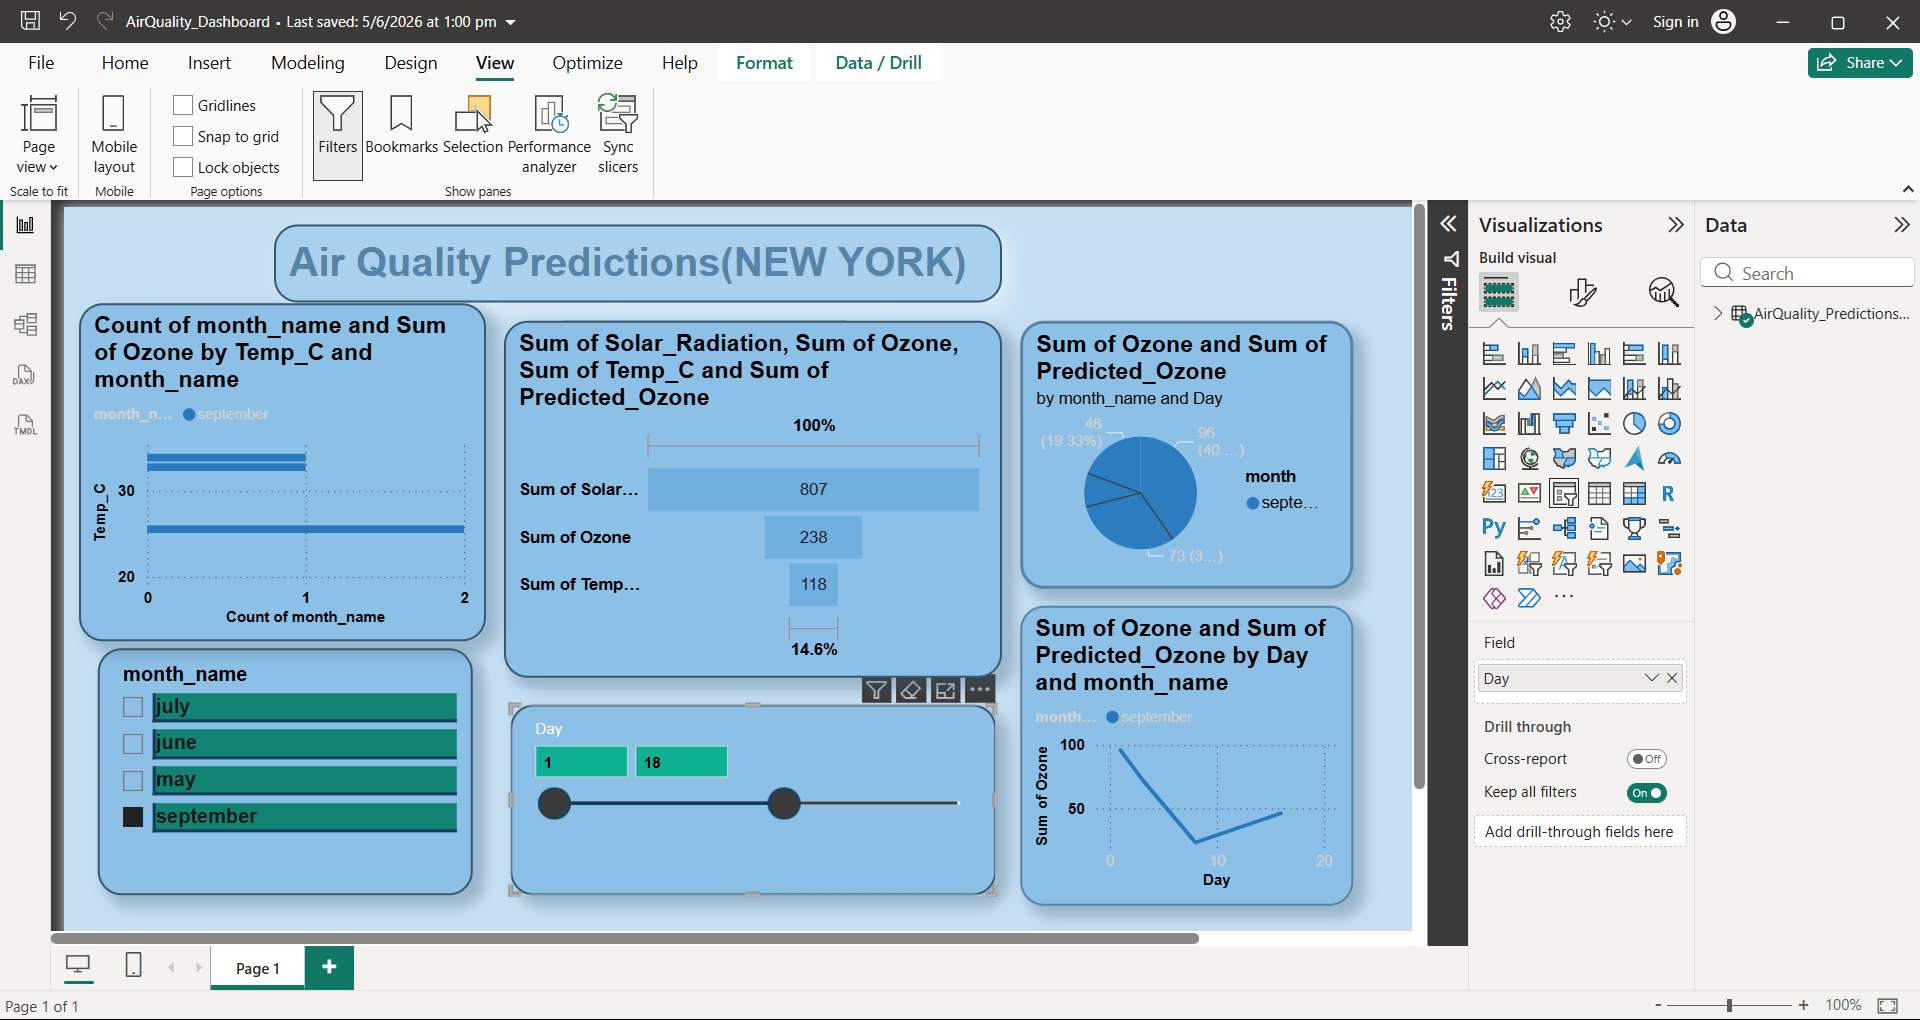

What the dashboard file says about the page in this screenshot:
{"tool":"powerbi","page":{"name":"Page 1","canvas":[1280,720],"ordinal":0},"visuals":[{"type":"textbox","box":[0,0,567,48],"z":0},{"type":"kpi","fields":{"Indicator":["AirQuality_Predictions_Linear.Avg Ozone"],"TrendLine":["AirQuality_Predictions_Linear.month_name"],"Goal":["AirQuality_Predictions_Linear.Avg Predicted Ozone"]},"box":[0,48,253,179],"z":1000},{"type":"kpi","fields":{"Indicator":["Sum(AirQuality_Predictions_Linear.Wind)"],"TrendLine":["AirQuality_Predictions_Linear.Day"]},"box":[0,246,253,150],"z":2000},{"type":"slicer","fields":{"Values":["AirQuality_Predictions_Linear.month_name"]},"box":[1,415,235,139],"z":3000},{"type":"slicer","fields":{"Values":["AirQuality_Predictions_Linear.Day"]},"box":[277,246,235,150],"z":4000},{"type":"scatterChart","fields":{"X":["Sum(AirQuality_Predictions_Linear.Solar_Radiation)"],"Y":["Sum(AirQuality_Predictions_Linear.Ozone)"],"Size":["Sum(AirQuality_Predictions_Linear.Temp_C)"],"Series":["AirQuality_Predictions_Linear.month_name"]},"box":[267,48,307,179],"z":5000},{"type":"pieChart","fields":{"Category":["AirQuality_Predictions_Linear.month_name"],"Series":["AirQuality_Predictions_Linear.Day"],"Y":["Sum(AirQuality_Predictions_Linear.Ozone)"]},"box":[590,38,267,215],"z":6000},{"type":"lineChart","fields":{"Category":["AirQuality_Predictions_Linear.Day"],"Y":["Sum(AirQuality_Predictions_Linear.Ozone)"],"Series":["AirQuality_Predictions_Linear.month_name"]},"box":[590,308,267,215],"z":7000},{"type":"barChart","fields":{"Y":["CountNonNull(AirQuality_Predictions_Linear.month_name)"],"Category":["AirQuality_Predictions_Linear.Temp_C"],"Series":["AirQuality_Predictions_Linear.month_name"]},"box":[287,360,257,201],"z":7001}]}

Visuals, with their boxes on the page's 1280x720 design canvas (x1, y1, x2, y2). These are canvas units, not pixel positions in the 1920x1020 screenshot, which may show the page scaled, cropped or inside an application window:
textbox: [x1=0, y1=0, x2=567, y2=48]
kpi - AirQuality_Predictions_Linear.Avg Ozone x AirQuality_Predictions_Linear.month_name: [x1=0, y1=48, x2=253, y2=227]
kpi - Sum(AirQuality_Predictions_Linear.Wind) x AirQuality_Predictions_Linear.Day: [x1=0, y1=246, x2=253, y2=396]
slicer - AirQuality_Predictions_Linear.month_name: [x1=1, y1=415, x2=236, y2=554]
slicer - AirQuality_Predictions_Linear.Day: [x1=277, y1=246, x2=512, y2=396]
scatterChart - Sum(AirQuality_Predictions_Linear.Solar_Radiation) x Sum(AirQuality_Predictions_Linear.Ozone): [x1=267, y1=48, x2=574, y2=227]
pieChart - AirQuality_Predictions_Linear.month_name x AirQuality_Predictions_Linear.Day: [x1=590, y1=38, x2=857, y2=253]
lineChart - AirQuality_Predictions_Linear.Day x Sum(AirQuality_Predictions_Linear.Ozone): [x1=590, y1=308, x2=857, y2=523]
barChart - CountNonNull(AirQuality_Predictions_Linear.month_name) x AirQuality_Predictions_Linear.Temp_C: [x1=287, y1=360, x2=544, y2=561]
